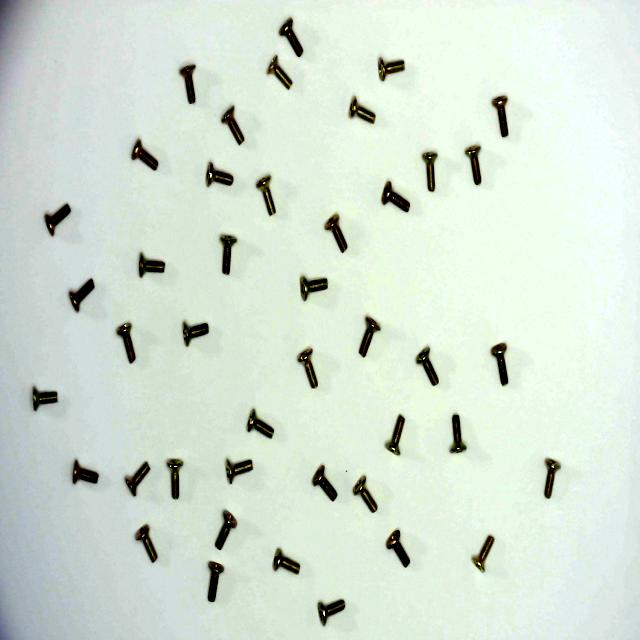Screws: (304, 460, 340, 504), (384, 524, 413, 572), (128, 137, 163, 175), (379, 176, 413, 215), (345, 93, 380, 130), (134, 519, 162, 565), (276, 17, 308, 57), (219, 103, 248, 147), (322, 207, 349, 254), (488, 336, 511, 391), (134, 247, 168, 284), (489, 90, 513, 142), (114, 319, 140, 367), (350, 472, 379, 515), (123, 458, 154, 497), (176, 62, 202, 108), (419, 146, 442, 198), (294, 345, 320, 390), (264, 56, 297, 91), (223, 456, 261, 486), (317, 594, 350, 628), (42, 200, 74, 235), (180, 311, 212, 346), (413, 343, 439, 386), (357, 315, 381, 361), (205, 556, 228, 604), (473, 529, 498, 573), (242, 406, 274, 440), (298, 270, 333, 301), (214, 506, 238, 550), (256, 171, 278, 218), (70, 276, 97, 314), (204, 160, 236, 192), (271, 546, 303, 577), (376, 52, 409, 82), (219, 230, 238, 280), (462, 143, 482, 190), (386, 412, 406, 458), (72, 458, 103, 487), (544, 454, 562, 503), (449, 410, 468, 456), (167, 453, 184, 503), (29, 384, 60, 410)
